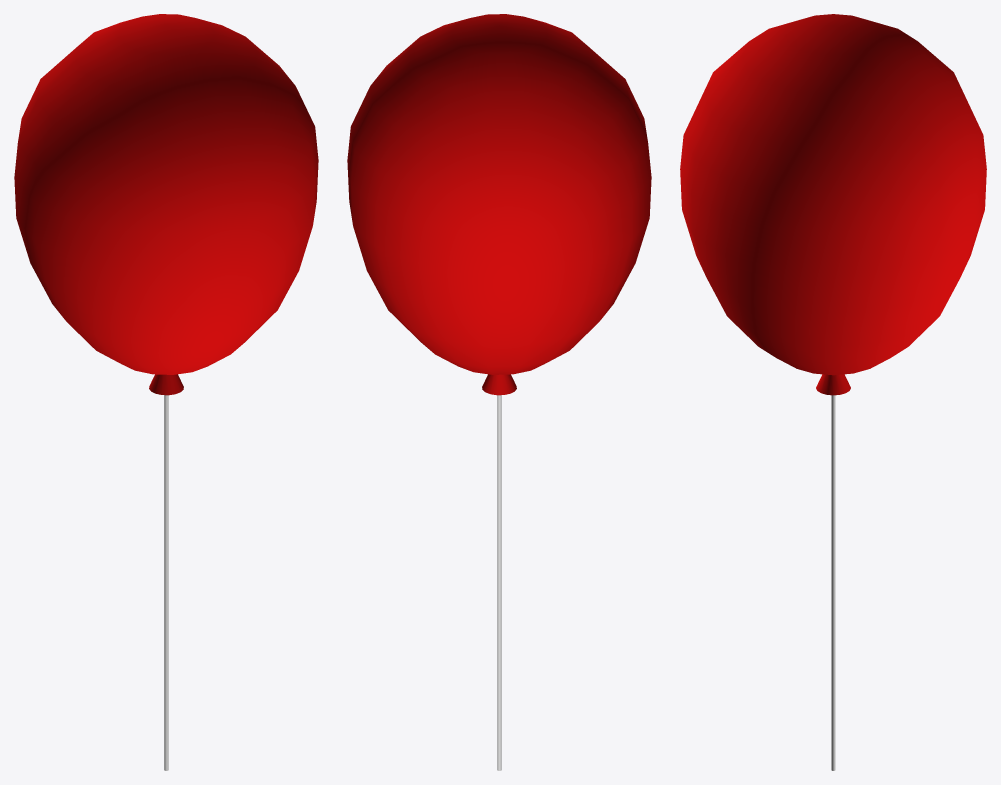
Rendered from red_balloon.obj.
3 views of the same model, side by side, from view 1: azimuth 30°, elevation 25°; view 2: azimuth 150°, elevation 25°; view 3: azimuth 270°, elevation 25° (orthographic).
Parts seen in each view (by area): view 1: obj2, obj1; view 2: obj2, obj1; view 3: obj2, obj1.
Boxes of the visible parts, bbox=[...] form: obj2: bbox=[14, 14, 318, 395]; obj1: bbox=[164, 395, 168, 770]; obj2: bbox=[347, 14, 651, 395]; obj1: bbox=[497, 395, 501, 770]; obj2: bbox=[680, 14, 986, 395]; obj1: bbox=[831, 395, 835, 770].
Size of the model in its own units: 0.6661 by 1.78 by 0.6661.
